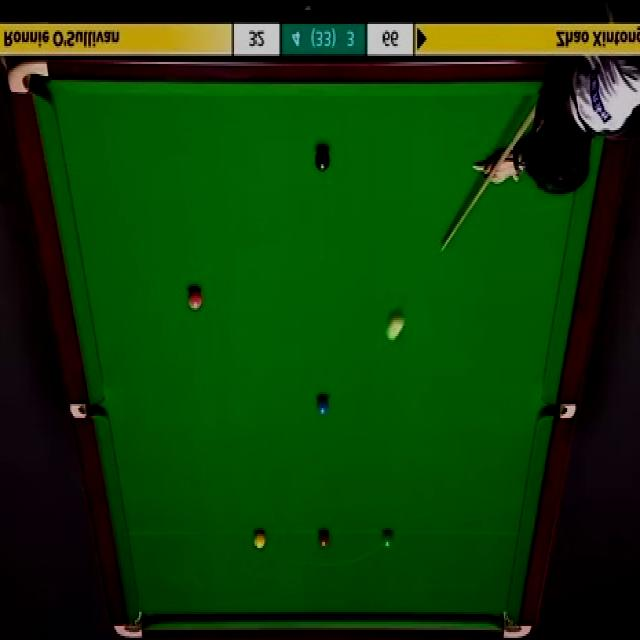pocket: (6, 61, 49, 96), (112, 610, 144, 640), (502, 608, 533, 638), (70, 400, 104, 419), (542, 399, 576, 418)
